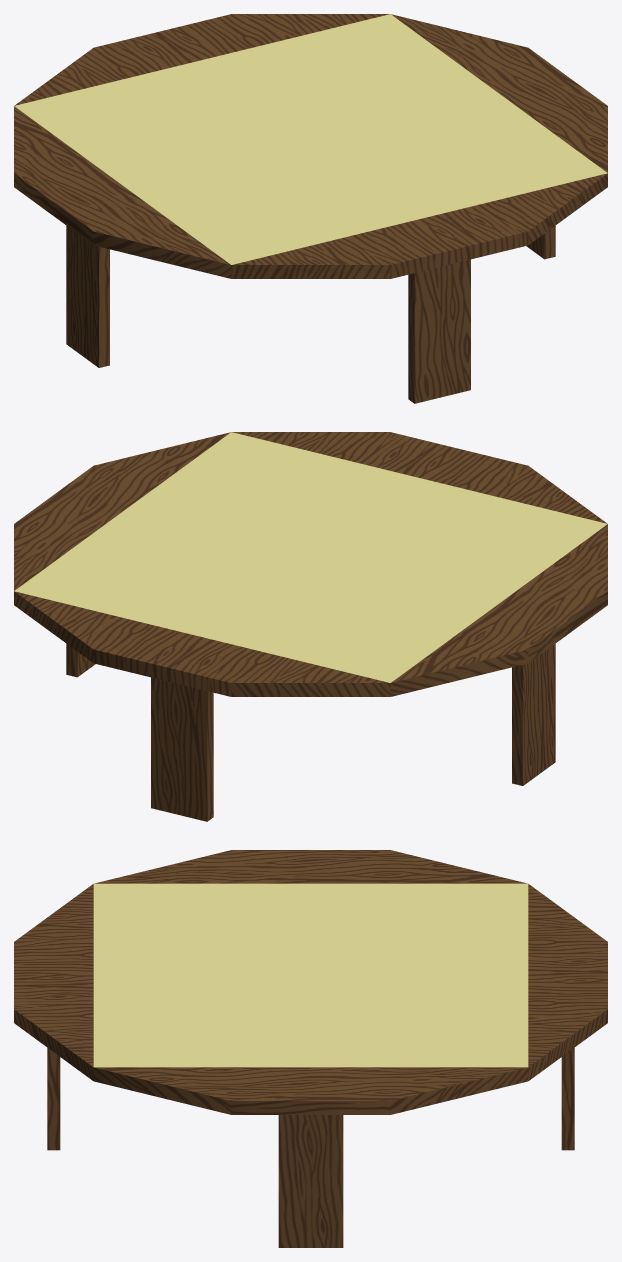
Rendered from Round Table.FBX.
The picture shows the model from 3 angles, top to bottom: view 1: azimuth 30°, elevation 25°; view 2: azimuth 150°, elevation 25°; view 3: azimuth 270°, elevation 25°; orthographic projection.
Visible parts, largest first — view 1: Cylinder001; view 2: Cylinder001; view 3: Cylinder001.
Boxes of the visible parts, <box> form: Cylinder001: <box>14,14,607,403</box>; Cylinder001: <box>14,432,607,821</box>; Cylinder001: <box>14,850,607,1247</box>.
Size of the model in its own units: 76.06 by 22.74 by 76.06.
1 material, 1 textured.
